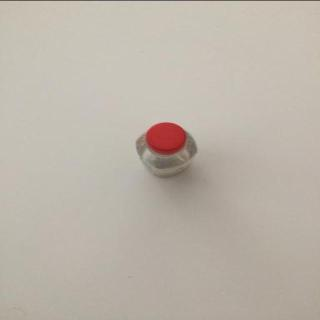Anorganik: (122, 115, 204, 181)
